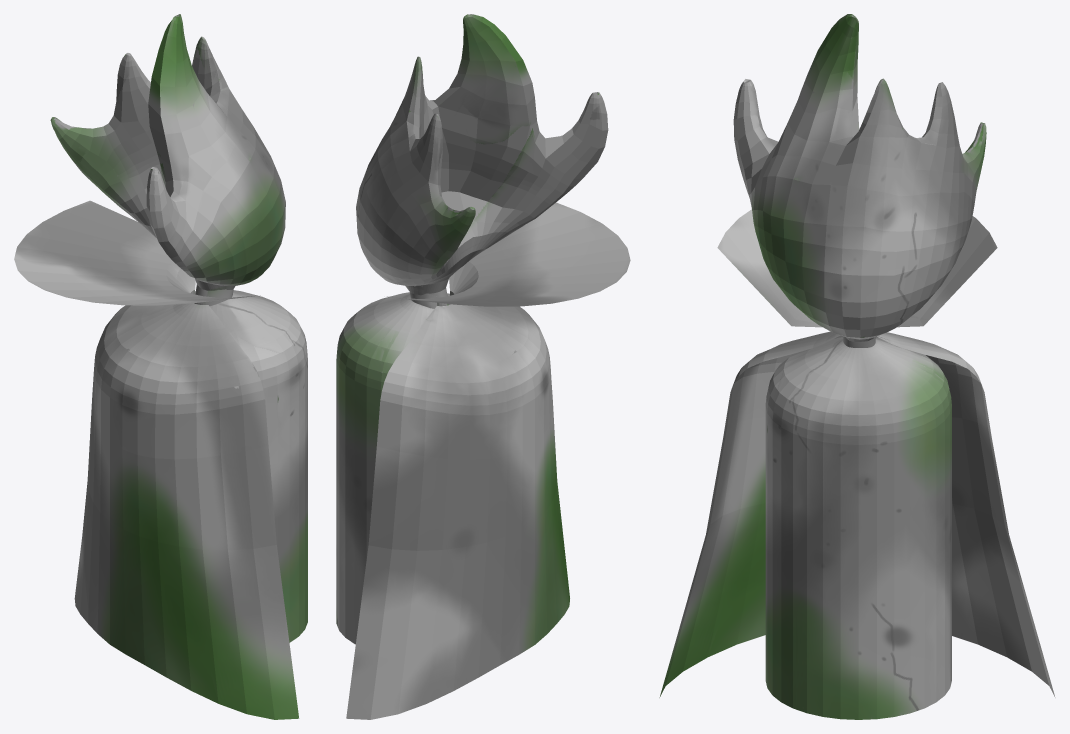
File: Statue 4.fbx
3 views of the same model, side by side, from view 1: azimuth 30°, elevation 25°; view 2: azimuth 150°, elevation 25°; view 3: azimuth 270°, elevation 25° (orthographic). The views are drawn at different scales.
Parts seen in each view (by area): view 1: Soleil_LOW.001; view 2: Soleil_LOW.001; view 3: Soleil_LOW.001.
Part boxes in pixels (x1,y1,x2,y2): Soleil_LOW.001: (14, 14, 307, 719); Soleil_LOW.001: (336, 14, 630, 719); Soleil_LOW.001: (659, 14, 1055, 719).
Bounding box in the file's own units: 527 × 1205 × 648.
1 material, 1 textured.
